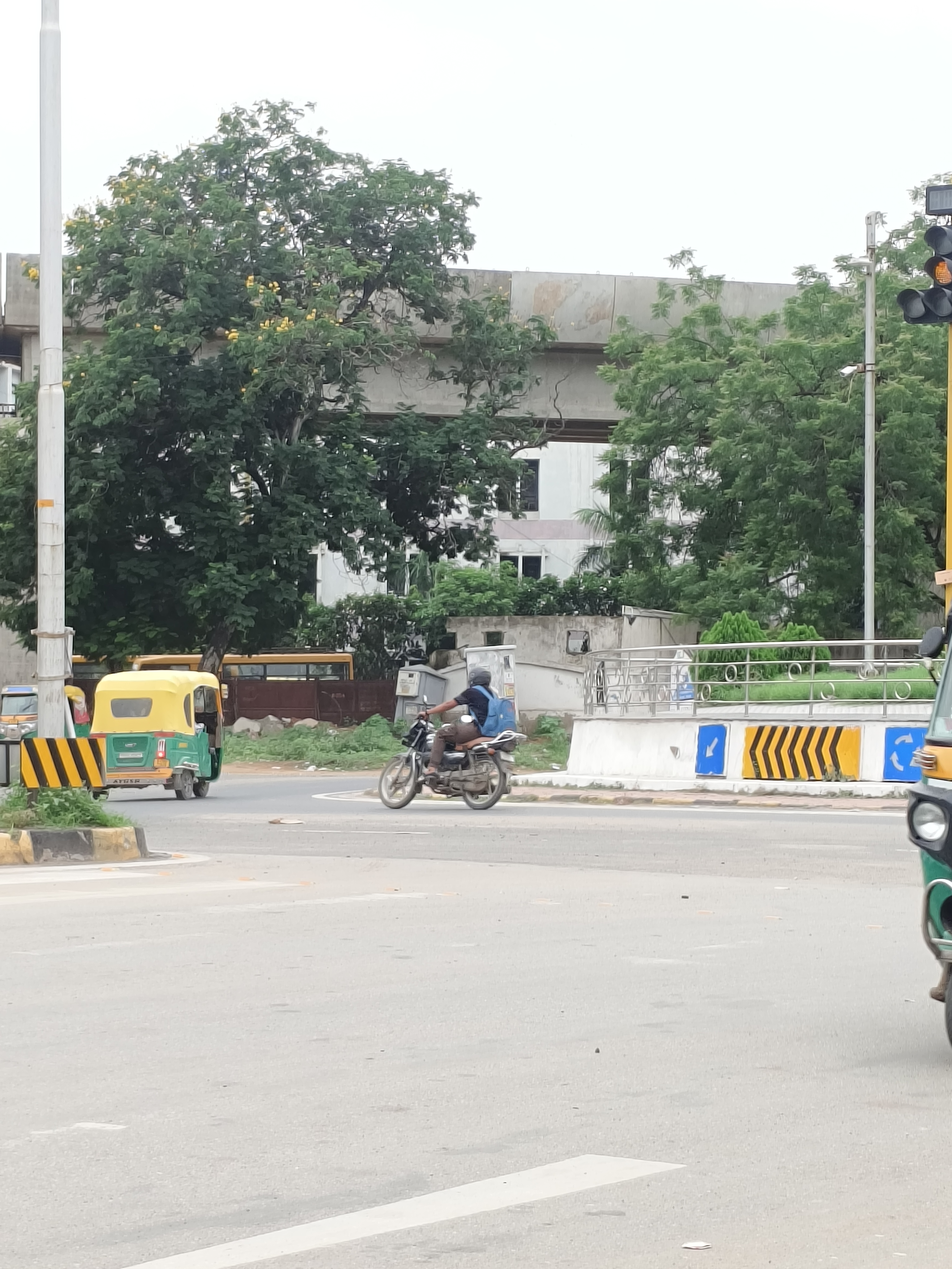BikeWithRider: (351, 641, 538, 845)
Helmet: (456, 658, 505, 713)
